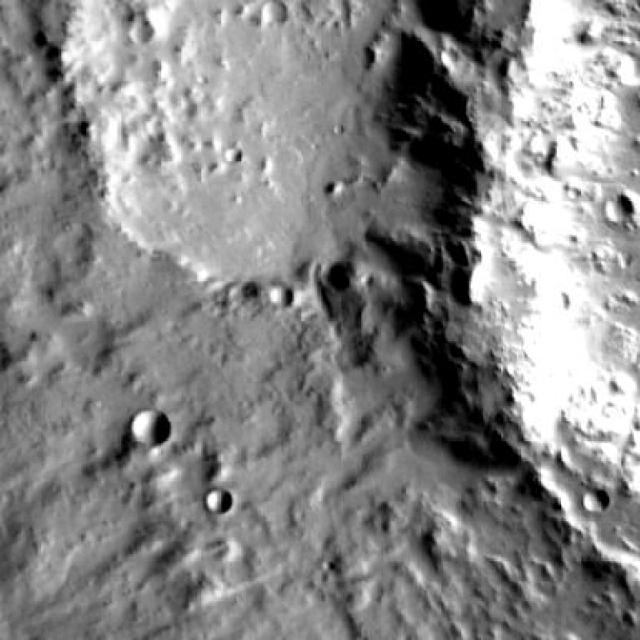crater: (39, 0, 496, 294), (430, 0, 633, 635), (130, 414, 168, 449), (604, 54, 640, 88), (605, 196, 633, 222), (258, 4, 285, 30), (584, 489, 610, 513), (270, 290, 295, 313), (207, 492, 231, 514), (445, 51, 463, 68)
